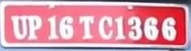character: (10, 14, 29, 41), (26, 14, 42, 41), (126, 16, 143, 41), (160, 16, 177, 41), (143, 15, 159, 41), (58, 15, 74, 40), (78, 15, 94, 39), (98, 14, 113, 39), (46, 15, 59, 41), (113, 16, 125, 40)
